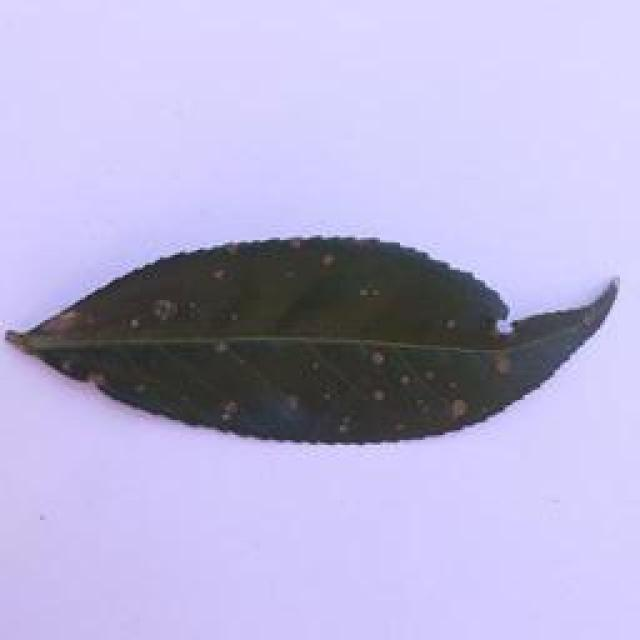Algal Leaf Spot: (0, 228, 630, 460)
